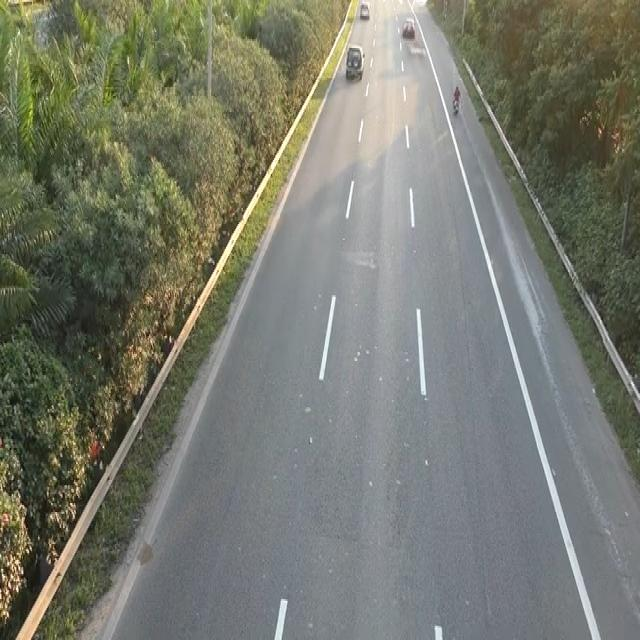bus: (401, 15, 415, 38), (359, 0, 370, 20)
car: (343, 39, 368, 87)
minibus: (451, 84, 461, 115)
